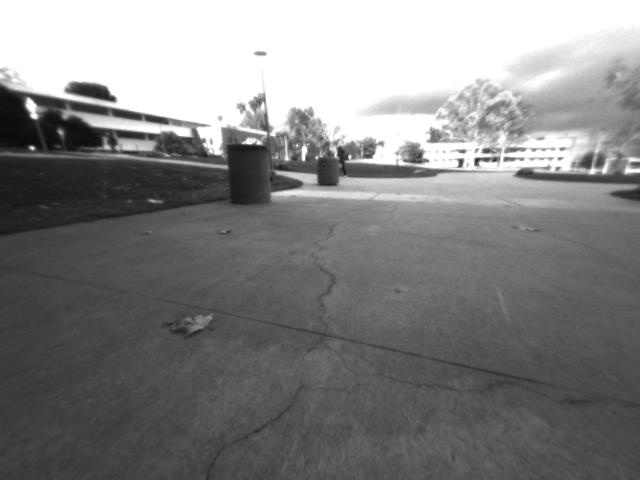trashcan: (221, 137, 277, 208), (314, 151, 346, 189)
